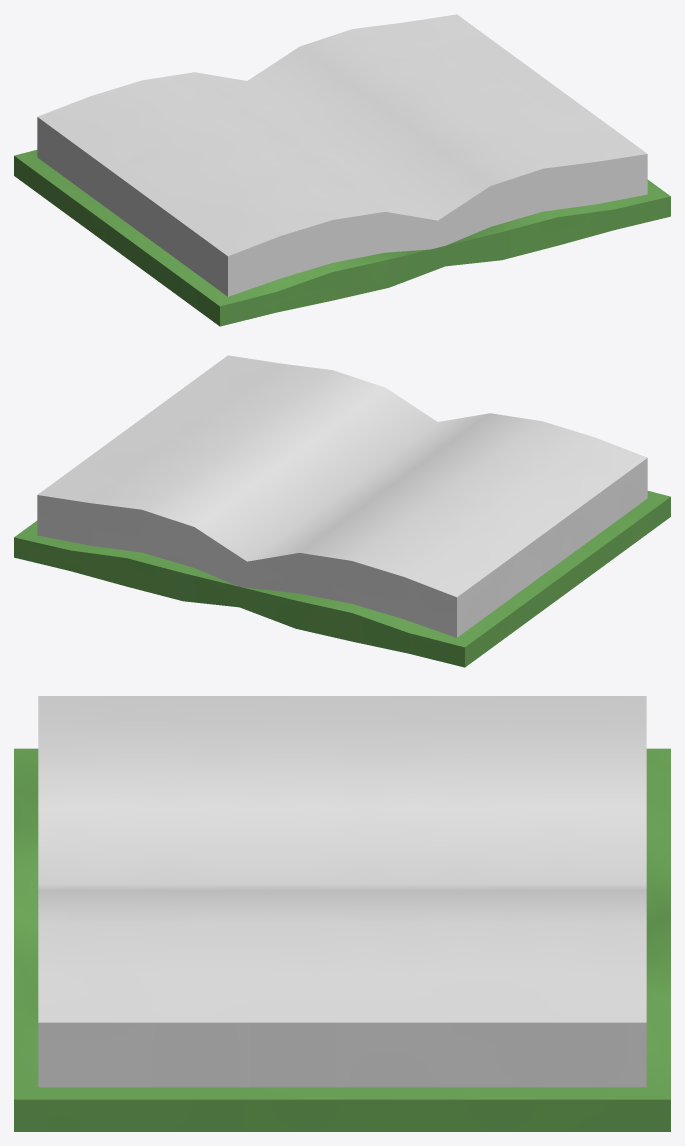
The model's file is Book_02_01.fbx.
3 views of the same model, one above another, from view 1: azimuth 30°, elevation 25°; view 2: azimuth 150°, elevation 25°; view 3: azimuth 270°, elevation 25° (orthographic). The views are drawn at different scales.
Parts seen in each view (by area): view 1: Book_02_01; view 2: Book_02_01; view 3: Book_02_01.
Part boxes in pixels (<box>): Book_02_01: <box>14,14,670,326</box>; Book_02_01: <box>14,355,670,667</box>; Book_02_01: <box>14,696,670,1131</box>.
Size of the model in its own units: 0.4877 by 0.0766 by 0.3859.
